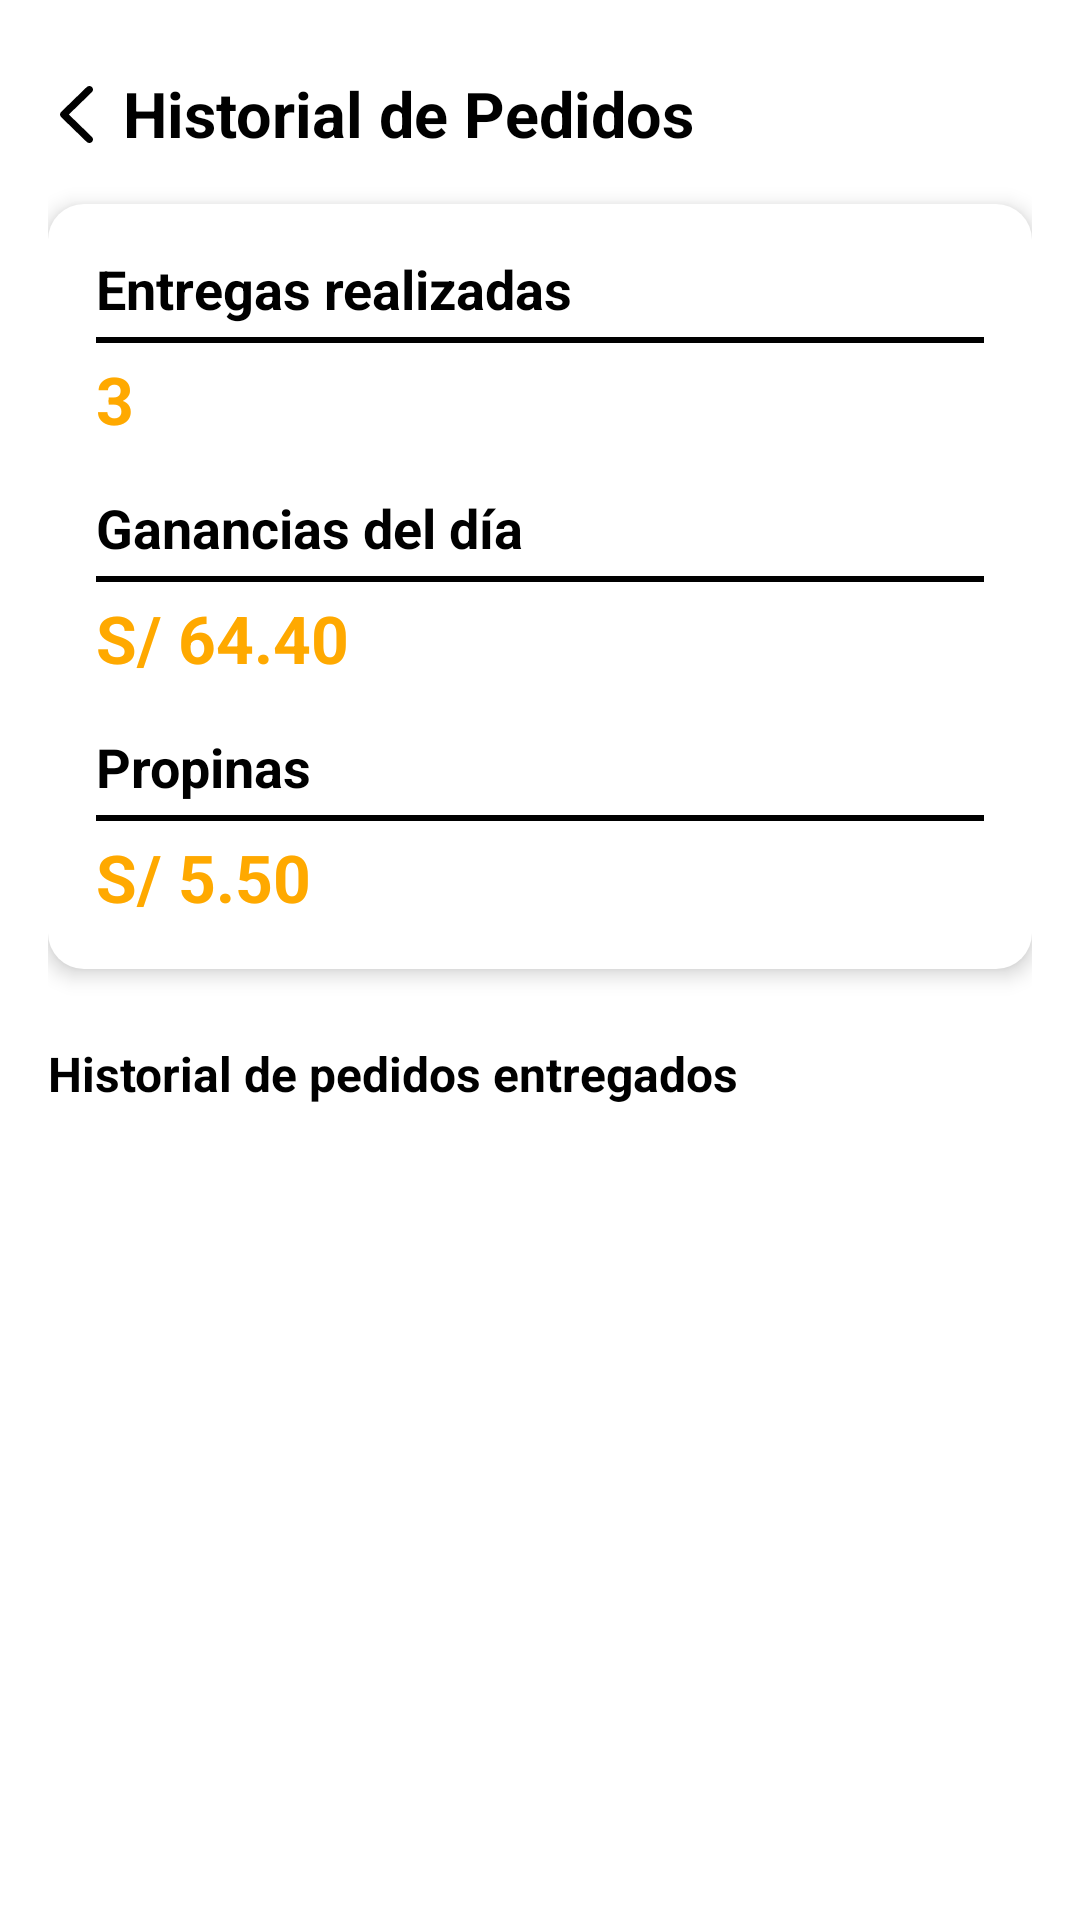

Icon bounding boxes for this 1080 x 1920 phone screenshot, format (x1, y1, x2, y2):
left arrow: (60, 86, 93, 143)
